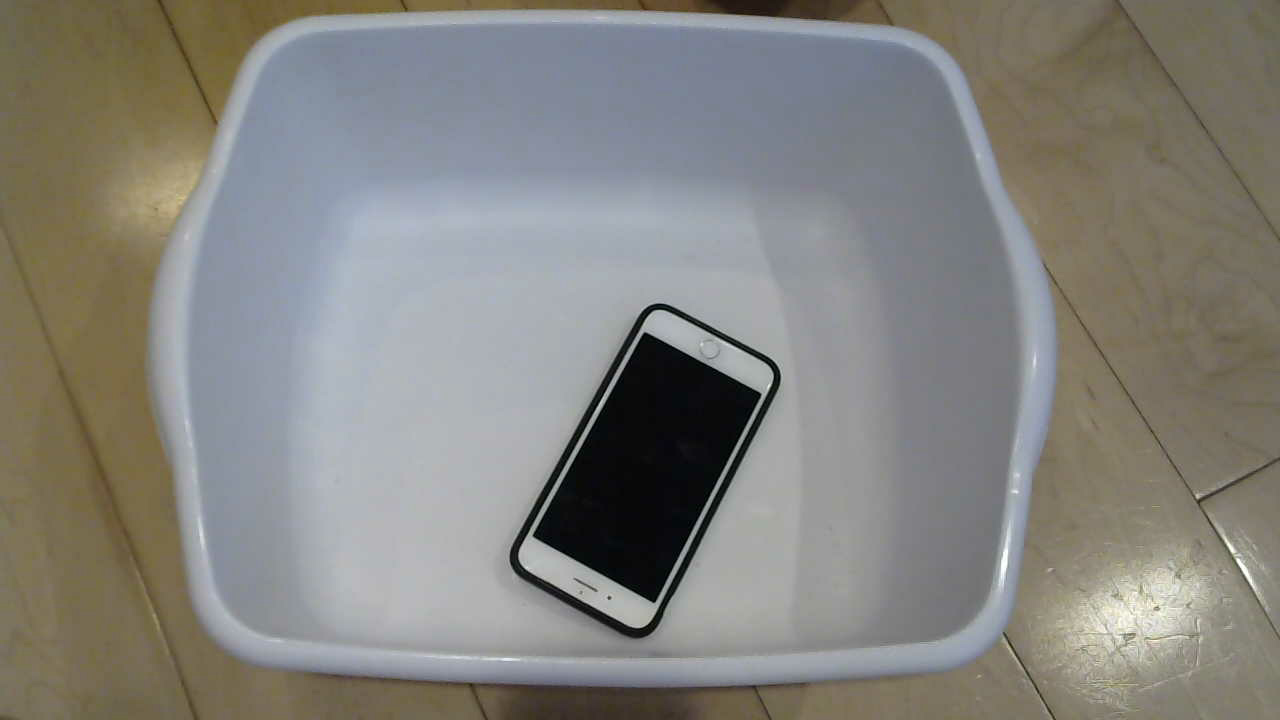phone: (528, 307, 807, 641)
